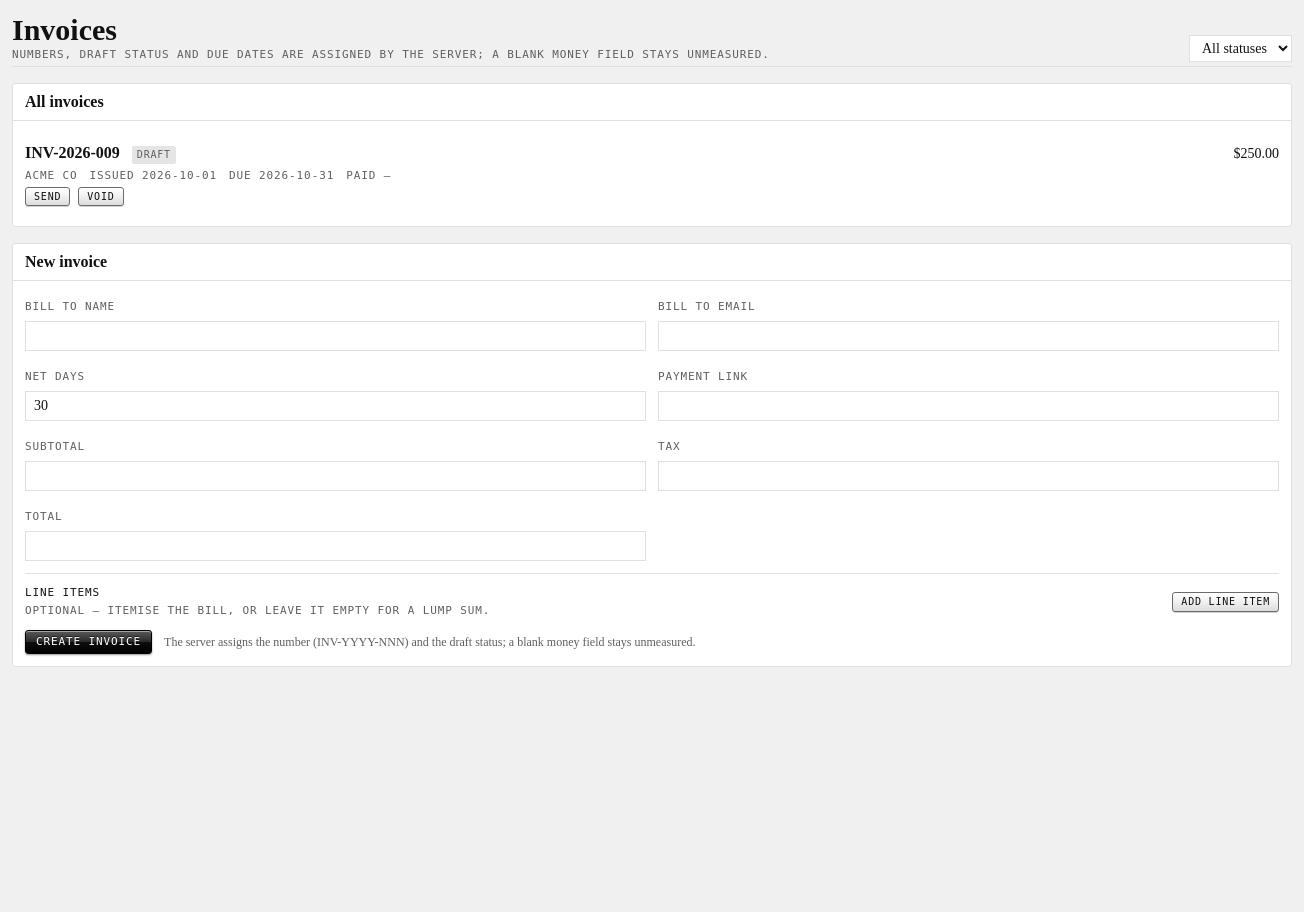
it: InvoicesPage — send / void (POST /invoices/{id}/send|void) › voids through a confirm step and updates the row from the server's answer
Click the button "Void" at (101, 196), box x1=78 y1=186 x2=124 y2=206
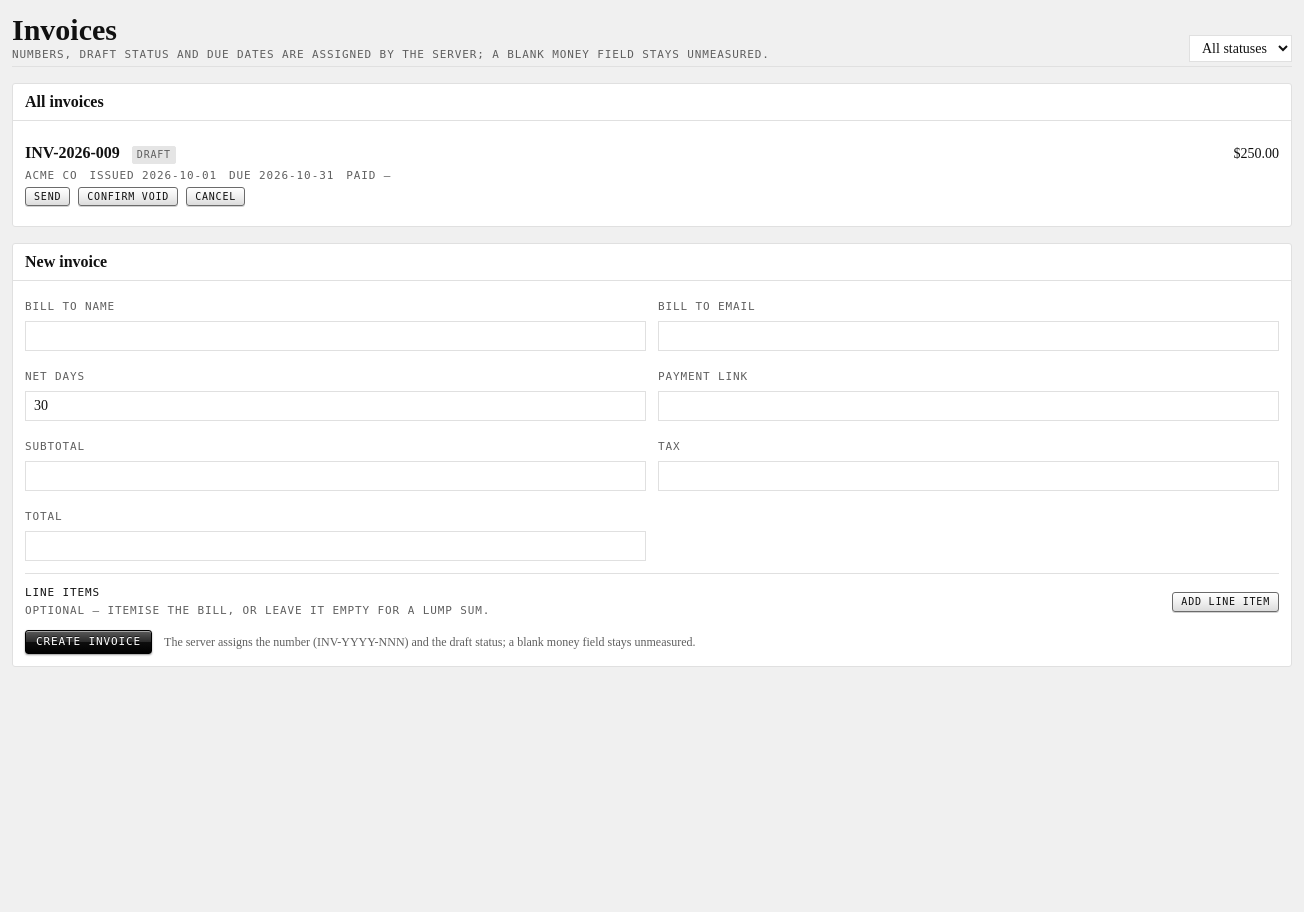
Click the button with test id "invoice-void-confirm-9" at (128, 196), box x1=78 y1=186 x2=178 y2=206
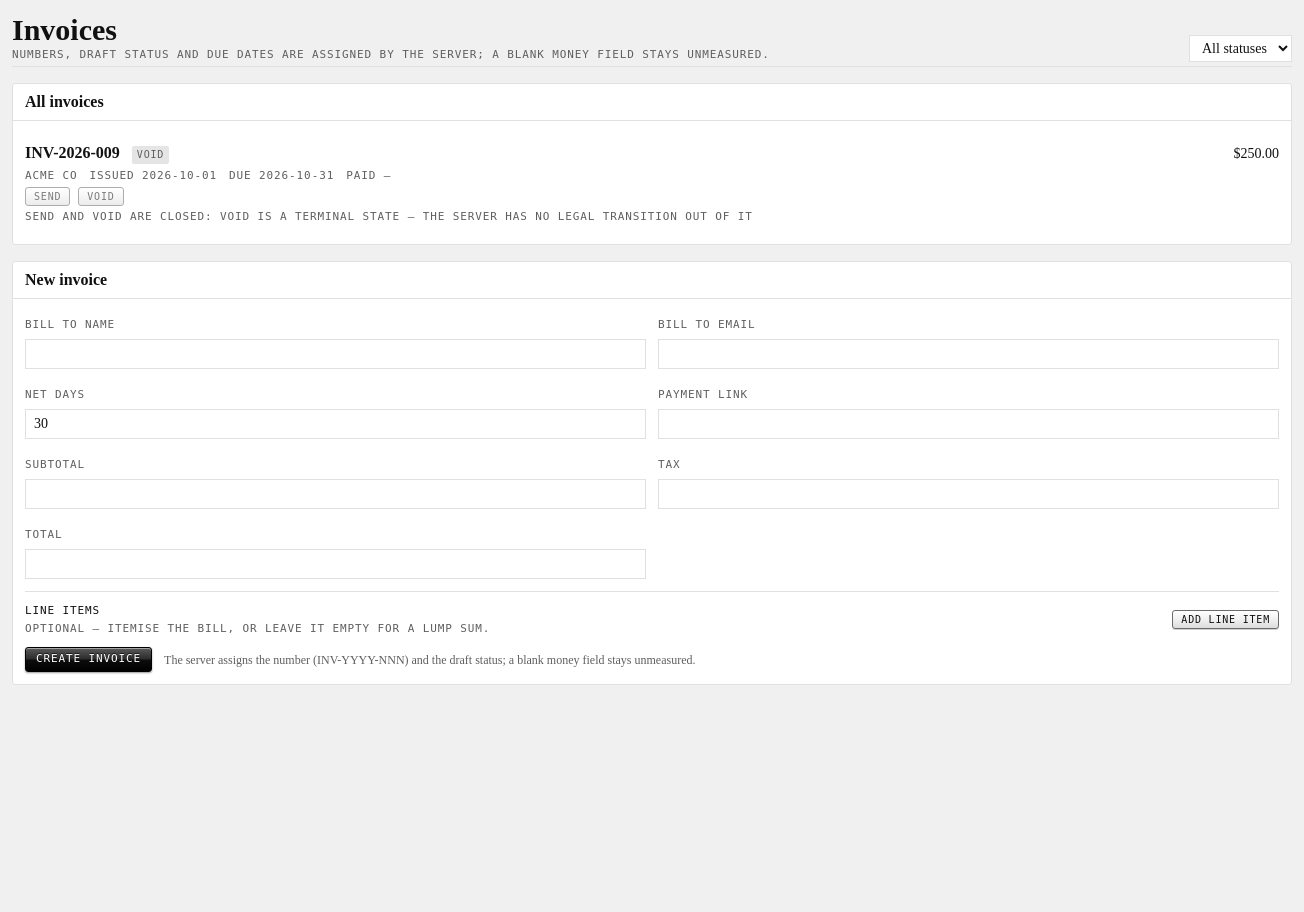
Expected: the text with test id "invoice-status" reads "void", x1=137 y1=149 x2=164 y2=160
